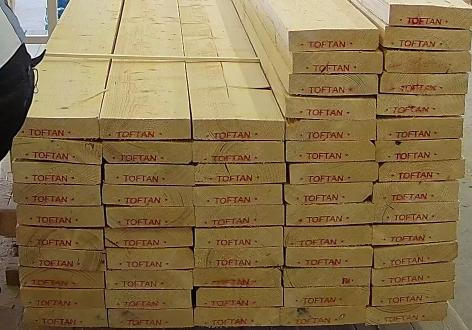Wood-Plank: (12, 137, 101, 164), (375, 241, 459, 269), (16, 226, 103, 251), (292, 50, 384, 73), (102, 141, 193, 164), (12, 161, 99, 185), (102, 184, 192, 207), (285, 225, 374, 248), (193, 141, 285, 163), (18, 249, 106, 272), (286, 119, 377, 141), (195, 163, 286, 185), (8, 117, 99, 139), (193, 119, 284, 141), (289, 28, 380, 50), (16, 205, 103, 228), (378, 118, 464, 141), (390, 5, 472, 29), (106, 206, 195, 228), (373, 223, 458, 246), (286, 97, 379, 118), (287, 205, 375, 227), (384, 28, 472, 50), (385, 51, 472, 73), (381, 72, 468, 94), (373, 263, 456, 286), (373, 283, 456, 306), (380, 160, 466, 182), (195, 207, 285, 228), (289, 74, 379, 95), (287, 141, 376, 162), (290, 164, 379, 185), (104, 165, 193, 186), (194, 185, 283, 206), (285, 184, 374, 205), (376, 202, 460, 224), (106, 250, 193, 271), (194, 307, 281, 328), (100, 119, 190, 139), (195, 229, 284, 249), (195, 248, 284, 268), (193, 268, 282, 288), (378, 95, 466, 115), (196, 288, 284, 308), (24, 309, 107, 330), (366, 304, 449, 325), (13, 185, 100, 205), (286, 247, 373, 267), (377, 142, 463, 162), (374, 183, 460, 203), (108, 309, 194, 329), (106, 270, 192, 290), (105, 290, 191, 310), (19, 268, 104, 288), (20, 288, 104, 308), (105, 229, 193, 248), (284, 269, 372, 288), (285, 289, 371, 308), (281, 309, 367, 326)
